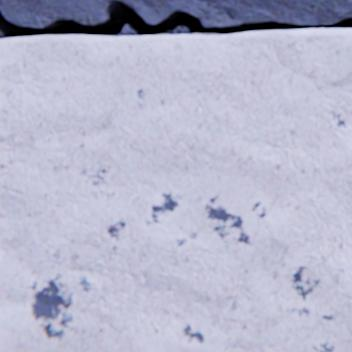brick: (0, 28, 351, 351)
crack: (0, 0, 351, 38)
